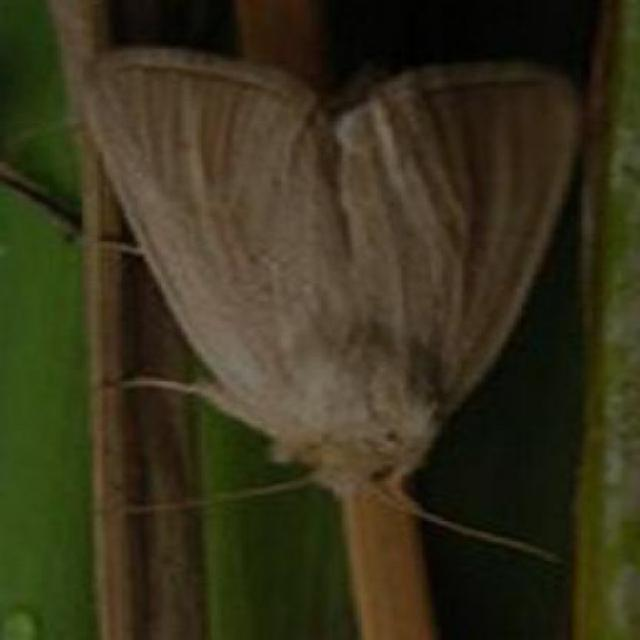stem-borer: (77, 42, 578, 564)
